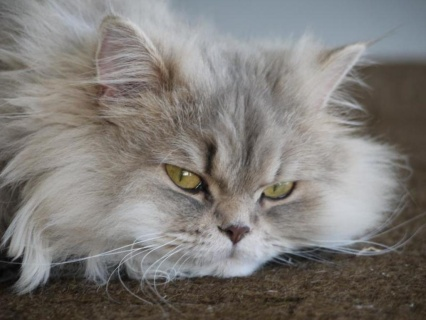Cat: (0, 0, 423, 316)
